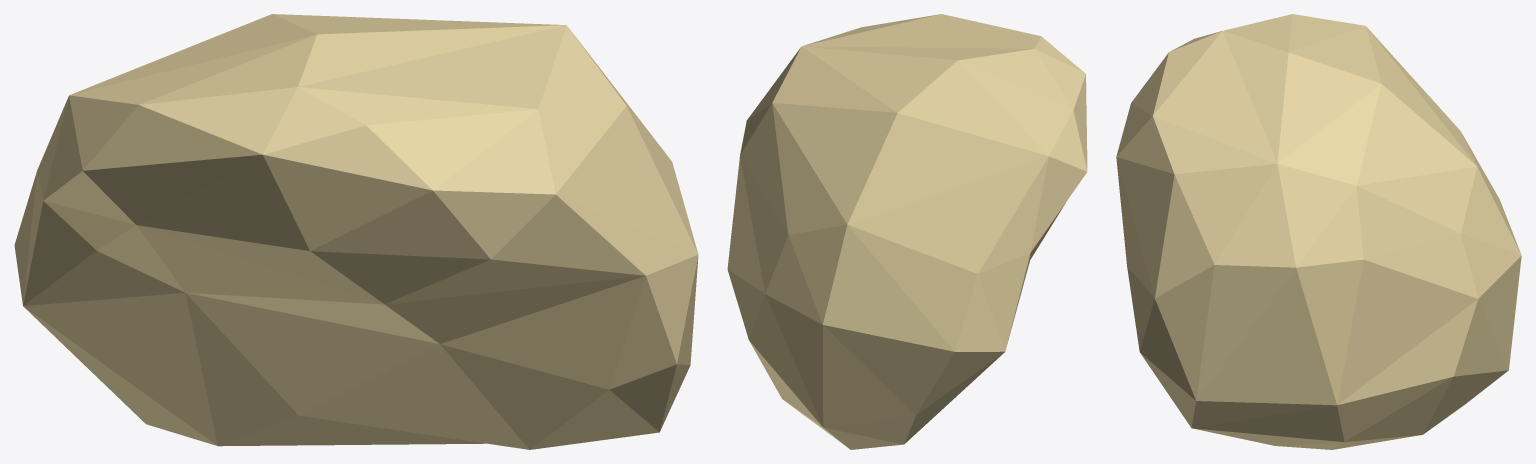
Rendered from Rock (10).fbx.
3 renders of one model, left to right at view 1: azimuth 30°, elevation 25°; view 2: azimuth 150°, elevation 25°; view 3: azimuth 270°, elevation 25°, orthographic. The views are drawn at different scales.
Parts seen in each view (by area): view 1: Asteroid9; view 2: Asteroid9; view 3: Asteroid9.
Boxes of the visible parts, x1,y1,x2,y2 form: Asteroid9: (14, 14, 698, 449); Asteroid9: (727, 14, 1087, 449); Asteroid9: (1116, 14, 1521, 449).
Size of the model in its own units: 211 by 190 by 205.
